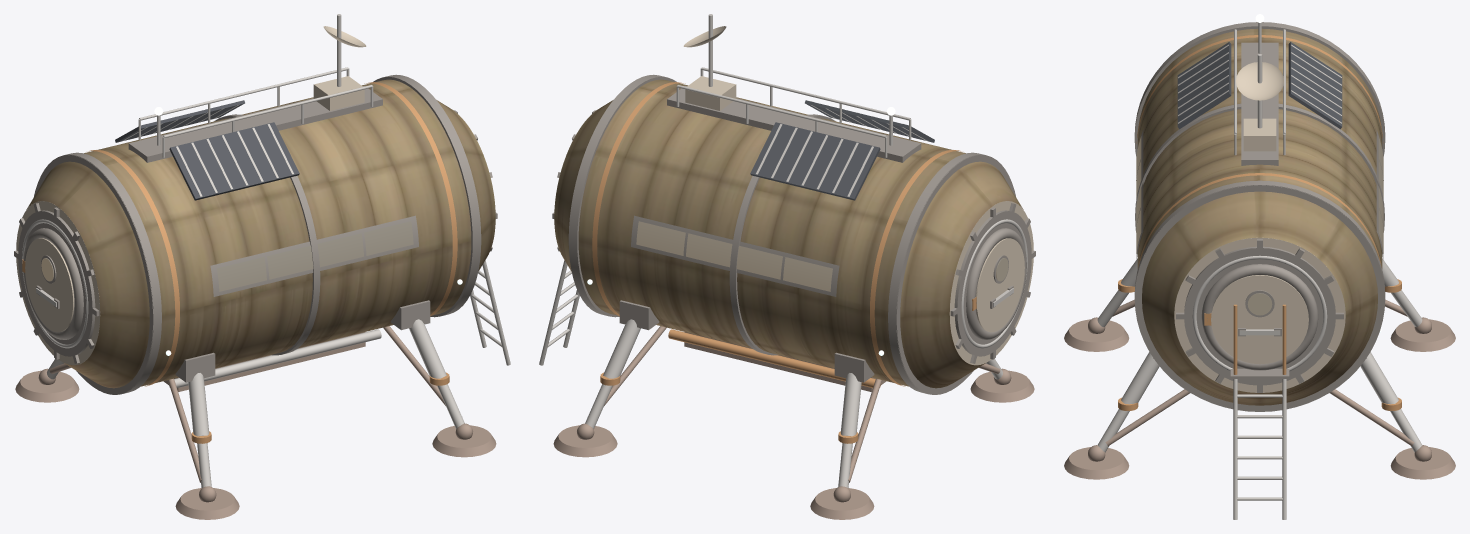
Rendered from W01_dust1_clean.glb.
3 views of the same model, side by side, from view 1: azimuth 30°, elevation 25°; view 2: azimuth 150°, elevation 25°; view 3: azimuth 270°, elevation 25° (orthographic).
Visible parts, largest first — view 1: hull, cone_rib, hatch_light_ring, end_plate, leg_brace, hatch_porthole; view 2: hull, cone_rib, end_plate, hatch_light_ring, leg_brace, hatch_porthole; view 3: hull, cone_rib, end_plate, hatch_light_ring, leg_brace, hatch_porthole, antenna_dish.
Boxes of the visible parts, bbox=[...] form: hull: bbox=[26, 79, 495, 388]; cone_rib: bbox=[14, 74, 497, 394]; hatch_light_ring: bbox=[22, 14, 510, 487]; end_plate: bbox=[16, 76, 474, 443]; leg_brace: bbox=[15, 326, 496, 519]; hatch_porthole: bbox=[41, 221, 413, 291]; hull: bbox=[554, 79, 1023, 388]; cone_rib: bbox=[552, 74, 1035, 394]; end_plate: bbox=[575, 76, 1033, 443]; hatch_light_ring: bbox=[539, 14, 1027, 487]; leg_brace: bbox=[553, 326, 1034, 519]; hatch_porthole: bbox=[636, 221, 1008, 291]; hull: bbox=[1137, 28, 1382, 405]; cone_rib: bbox=[1134, 22, 1385, 411]; end_plate: bbox=[1118, 35, 1401, 410]; hatch_light_ring: bbox=[1097, 22, 1422, 519]; leg_brace: bbox=[1064, 299, 1455, 479]; hatch_porthole: bbox=[1136, 136, 1383, 315]; antenna_dish: bbox=[1236, 62, 1283, 100].
Size of the model in its own units: 6.52 by 5.25 by 4.8.
9 materials, 1 textured.
